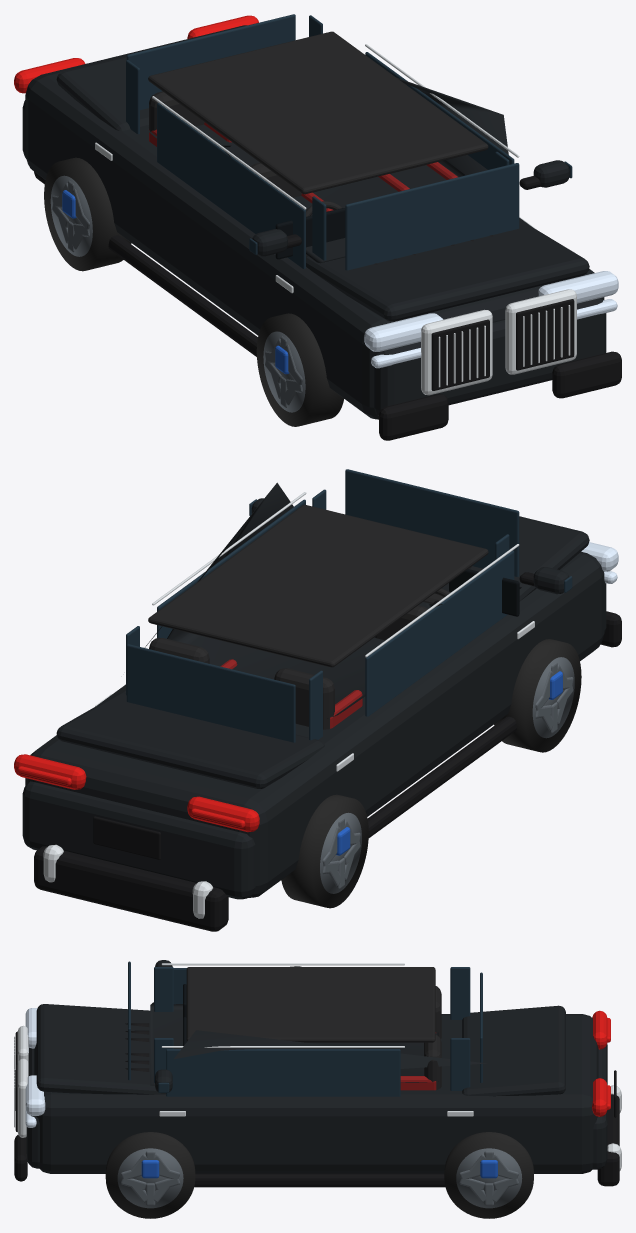
The model's file is bmw_m5_g90_2025.fbx.
The picture shows the model from 3 angles, top to bottom: view 1: azimuth 30°, elevation 25°; view 2: azimuth 150°, elevation 25°; view 3: azimuth 270°, elevation 25°; orthographic projection. The views are drawn at different scales.
Visible parts, largest first — view 1: Lower body, Headliner, Sculpted hood, Windscreen, Side window, Front bumper, Roof and upper greenhouse, Rear glass, Tire, Tire.002, Trunk lid, Side skirt (+20 smaller); view 2: Lower body, Headliner, Rear bumper, Trunk lid, Rear glass, Side window, Windscreen, Rear diffuser, Roof and upper greenhouse, Tire.002, Tire, Side skirt (+13 smaller); view 3: Lower body, Headliner, Side window.001, Sculpted hood, Trunk lid, Roof and upper greenhouse, Side skirt.001, Tire.001, Tire.003, Forged wheel rim.003, Forged wheel rim.001, Rear diffuser (+18 smaller).
Part boxes in pixels (<box>): Lower body: <box>25,25,604,419</box>; Headliner: <box>148,31,488,194</box>; Sculpted hood: <box>306,219,589,321</box>; Windscreen: <box>345,163,519,270</box>; Side window: <box>157,102,305,268</box>; Front bumper: <box>374,298,606,415</box>; Roof and upper greenhouse: <box>148,77,508,263</box>; Rear glass: <box>126,14,295,110</box>; Tire: <box>256,313,343,426</box>; Tire.002: <box>44,157,131,271</box>; Trunk lid: <box>56,56,148,130</box>; Side skirt: <box>108,235,257,356</box>; Lower body: <box>25,551,604,897</box>; Headliner: <box>148,504,488,667</box>; Rear bumper: <box>22,781,255,899</box>; Trunk lid: <box>56,692,324,788</box>; Rear glass: <box>126,644,295,742</box>; Side window: <box>365,550,514,716</box>; Windscreen: <box>345,469,519,576</box>; Rear diffuser: <box>34,846,228,931</box>; Roof and upper greenhouse: <box>144,482,521,718</box>; Tire.002: <box>281,794,368,908</box>; Tire: <box>494,639,581,752</box>; Side skirt: <box>367,716,516,837</box>; Lower body: <box>34,1014,598,1173</box>; Headliner: <box>186,967,435,1042</box>; Side window.001: <box>166,1049,400,1096</box>; Sculpted hood: <box>36,1004,165,1094</box>; Trunk lid: <box>462,1005,565,1096</box>; Roof and upper greenhouse: <box>150,966,486,1085</box>; Side skirt.001: <box>194,1173,445,1187</box>; Tire.001: <box>105,1132,195,1218</box>; Tire.003: <box>444,1132,533,1218</box>; Forged wheel rim.003: <box>456,1148,522,1208</box>; Forged wheel rim.001: <box>117,1148,183,1208</box>; Rear diffuser: <box>597,1094,619,1186</box>.
Size of what is drawn, in the model's own units: 2.63 by 1.8 by 5.49.
